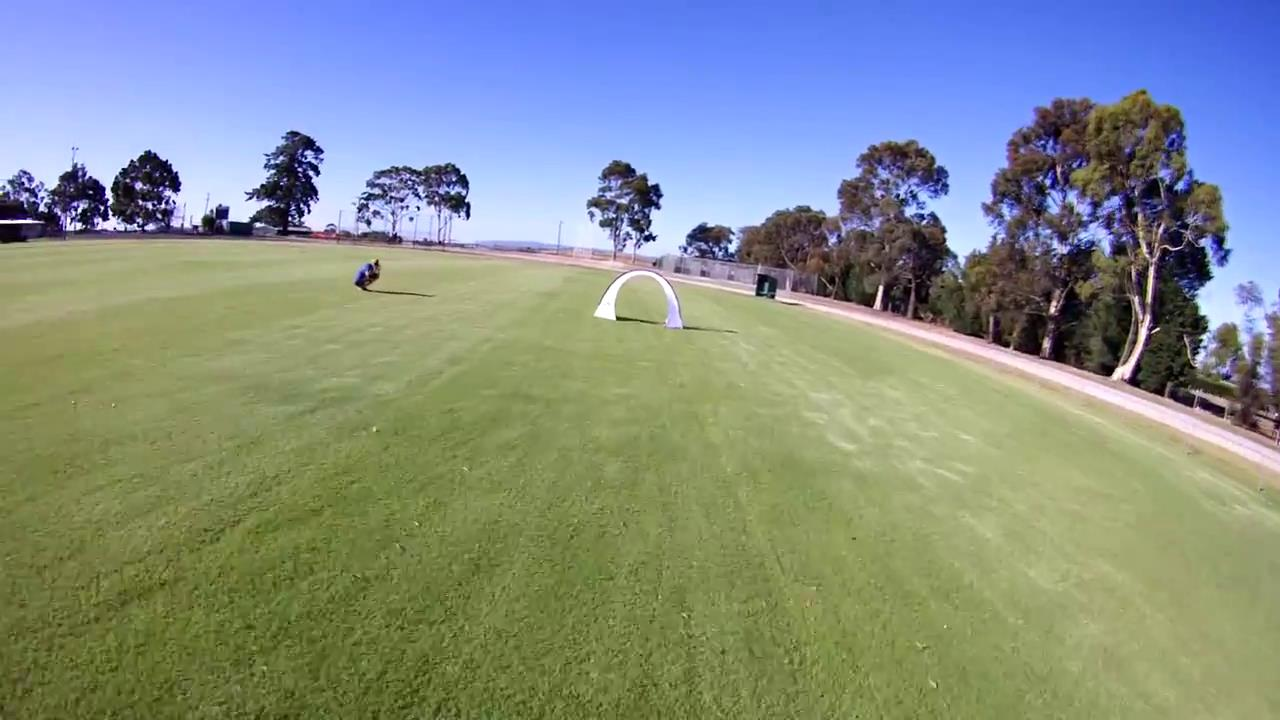gate: (592, 267, 685, 331)
